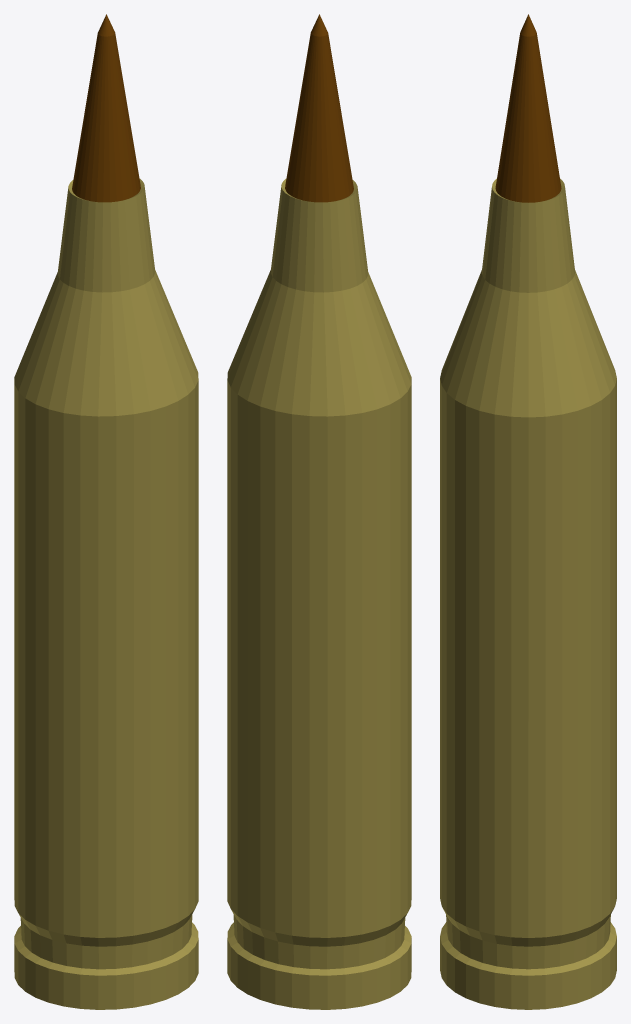
The model's file is Bullets.fbx.
3 renders of one model, left to right at view 1: azimuth 30°, elevation 25°; view 2: azimuth 150°, elevation 25°; view 3: azimuth 270°, elevation 25°, orthographic.
Visible parts, largest first — view 1: Cylinder.004; view 2: Cylinder.004; view 3: Cylinder.004.
Boxes of the visible parts, x1,y1,x2,y2 form: Cylinder.004: [14, 14, 198, 1009]; Cylinder.004: [227, 14, 411, 1009]; Cylinder.004: [440, 14, 616, 1009].
Bounding box in the file's own units: 58.52 × 330 × 55.35.
